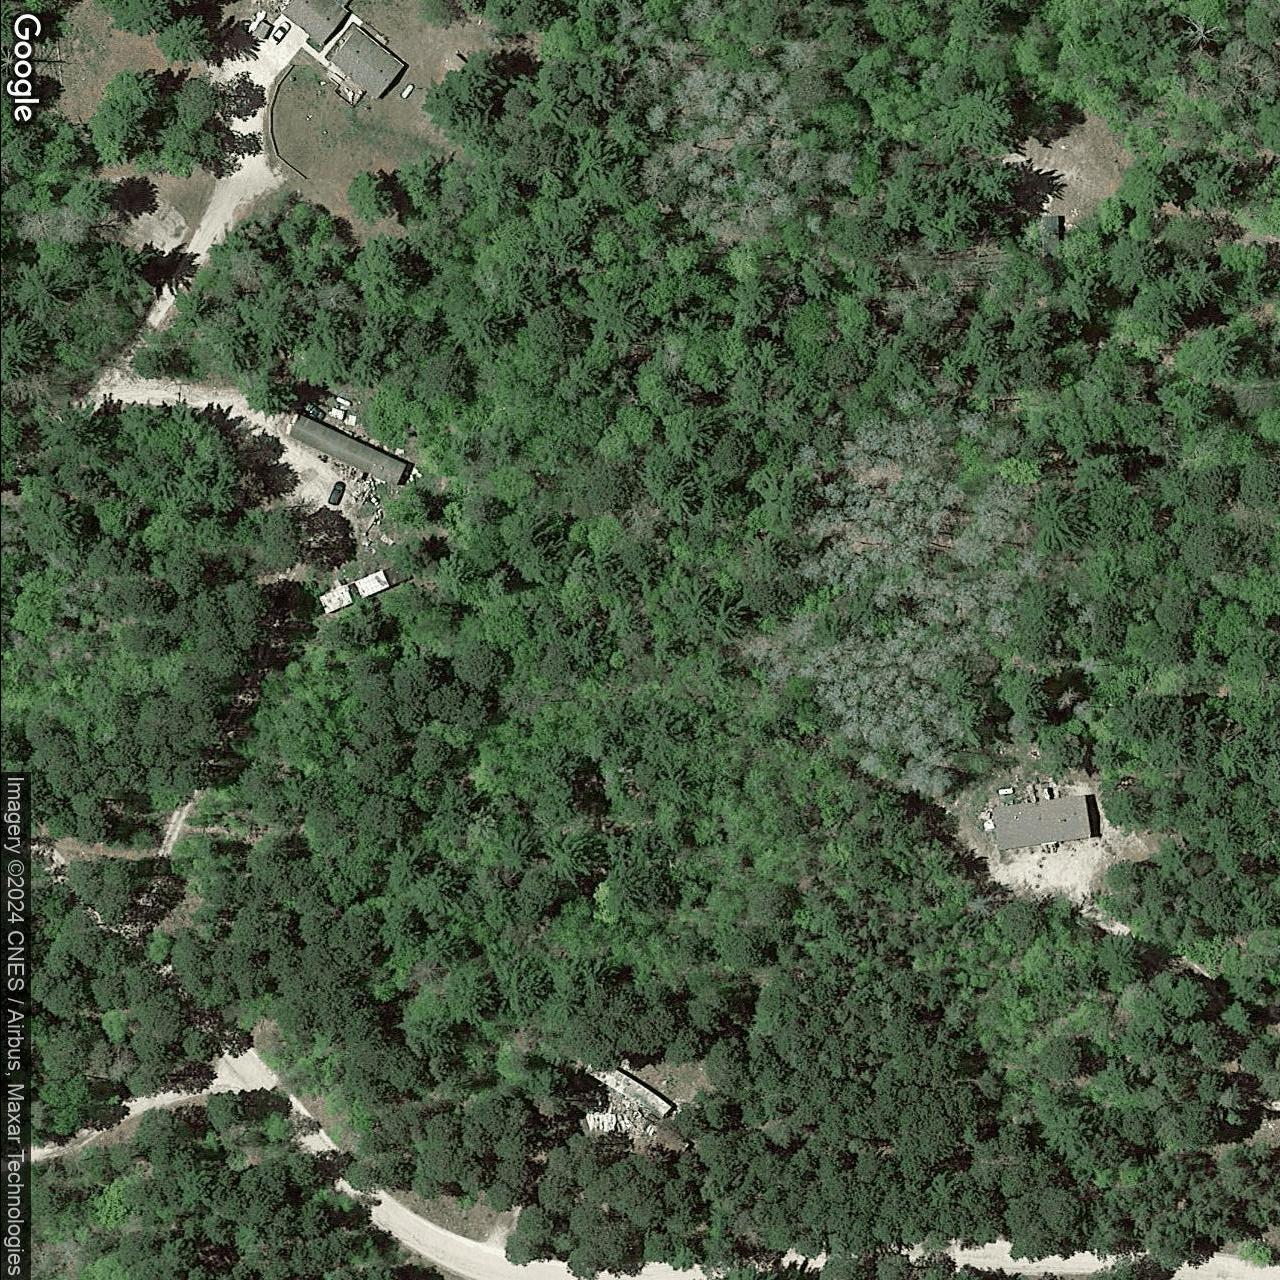House: (326, 26, 407, 102), (989, 794, 1092, 852), (280, 1, 348, 45)
Propane: (396, 80, 418, 103), (333, 394, 353, 409), (995, 784, 1016, 797)
Trailer: (287, 411, 409, 490), (583, 1053, 676, 1121), (315, 567, 390, 615)
